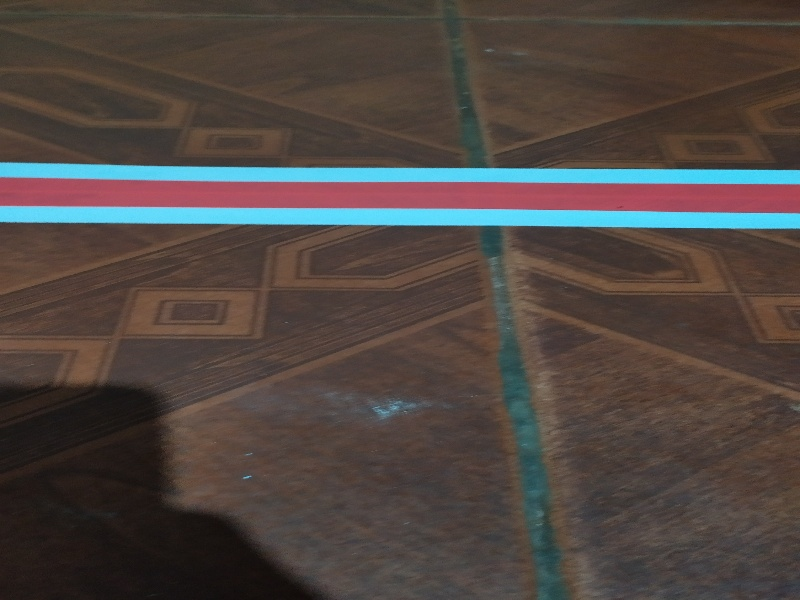reta: (7, 154, 800, 243)
